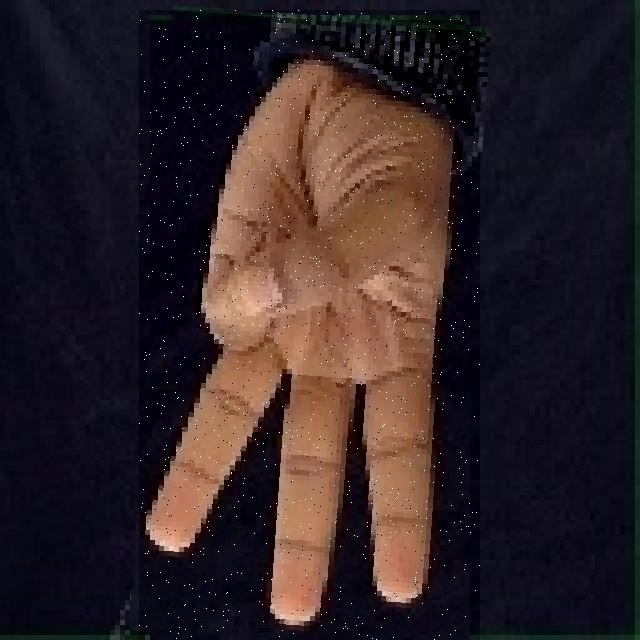Please: (139, 10, 480, 640)
